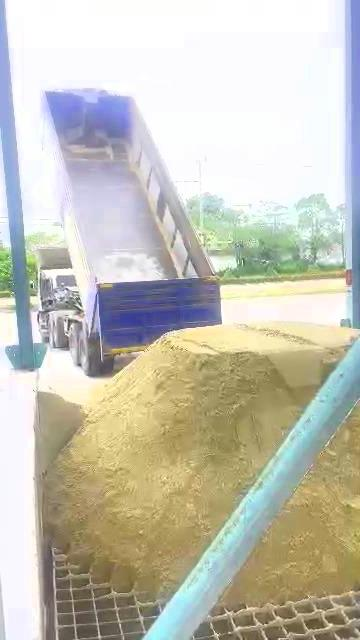sand: (47, 323, 357, 595), (224, 409, 360, 604), (35, 389, 84, 477)
